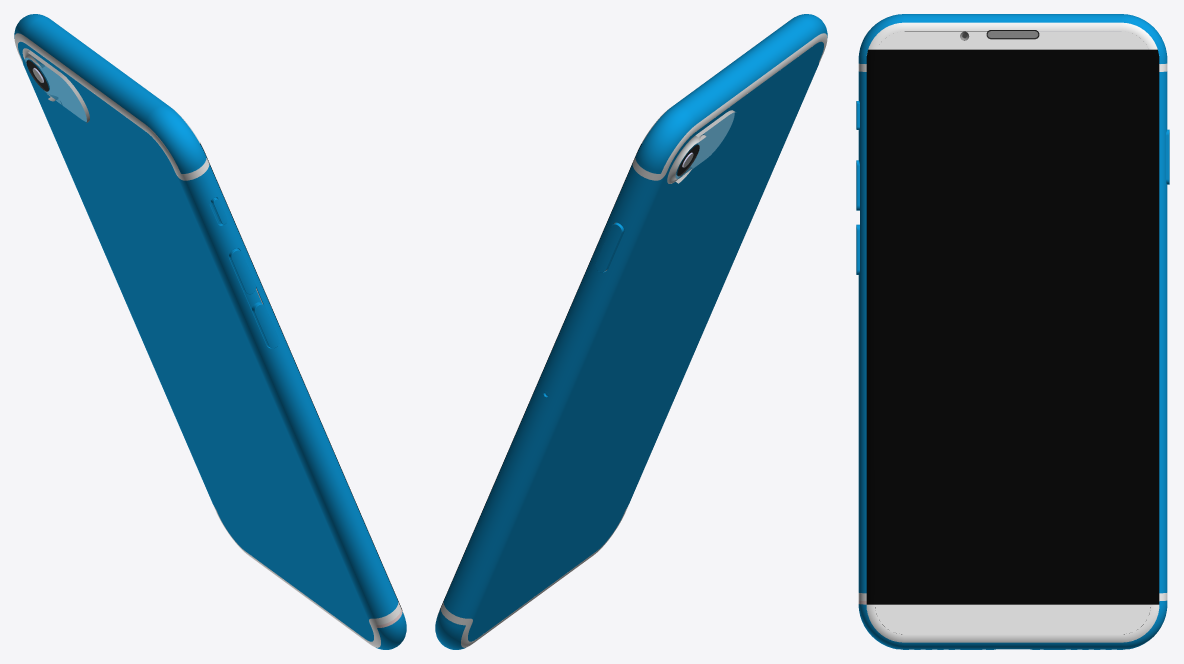
3 renders of one model, left to right at view 1: azimuth 30°, elevation 25°; view 2: azimuth 150°, elevation 25°; view 3: azimuth 270°, elevation 25°, orthographic. The views are drawn at different scales.
Parts seen in each view (by area): view 1: User Library-Iphone 8 v2-3; view 2: User Library-Iphone 8 v2-3; view 3: User Library-Iphone 8 v2-3.
Part boxes in pixels (left/top/right/bottom): User Library-Iphone 8 v2-3: left=14, top=14, right=406, bottom=649; User Library-Iphone 8 v2-3: left=435, top=14, right=827, bottom=649; User Library-Iphone 8 v2-3: left=856, top=14, right=1169, bottom=649.
Size of the model in its own units: 0.0567 by 0.1284 by 0.068.
Materials: 33 (1 with a texture image).
